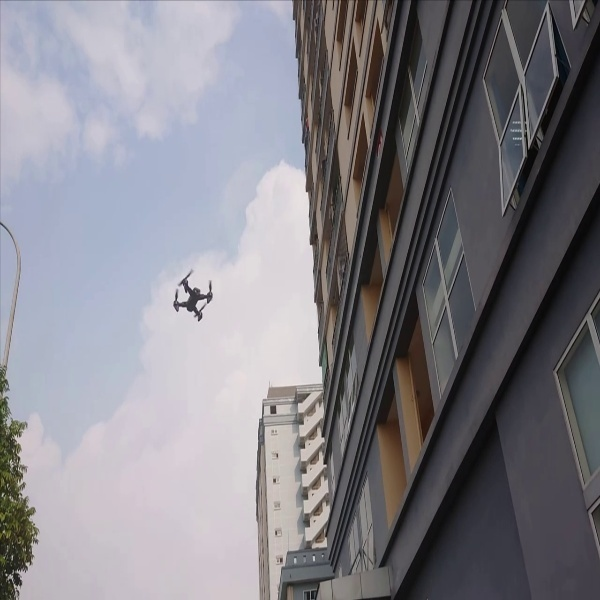drone: (152, 266, 223, 327)
